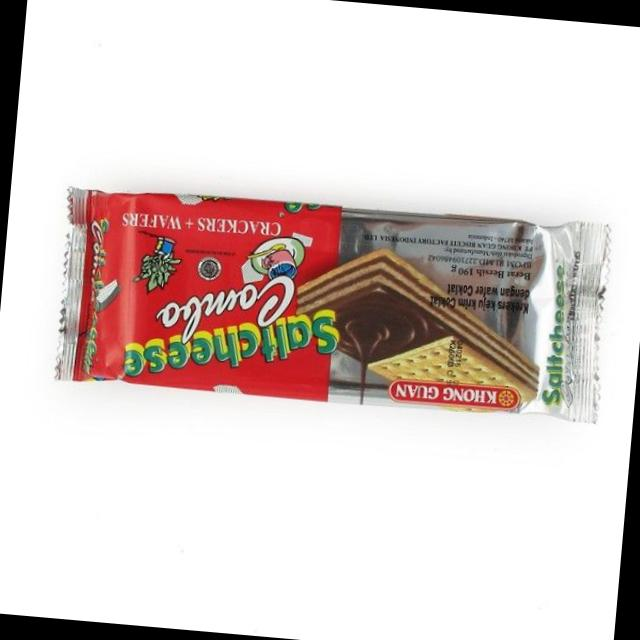KemasanPlastik: (50, 177, 615, 430)
